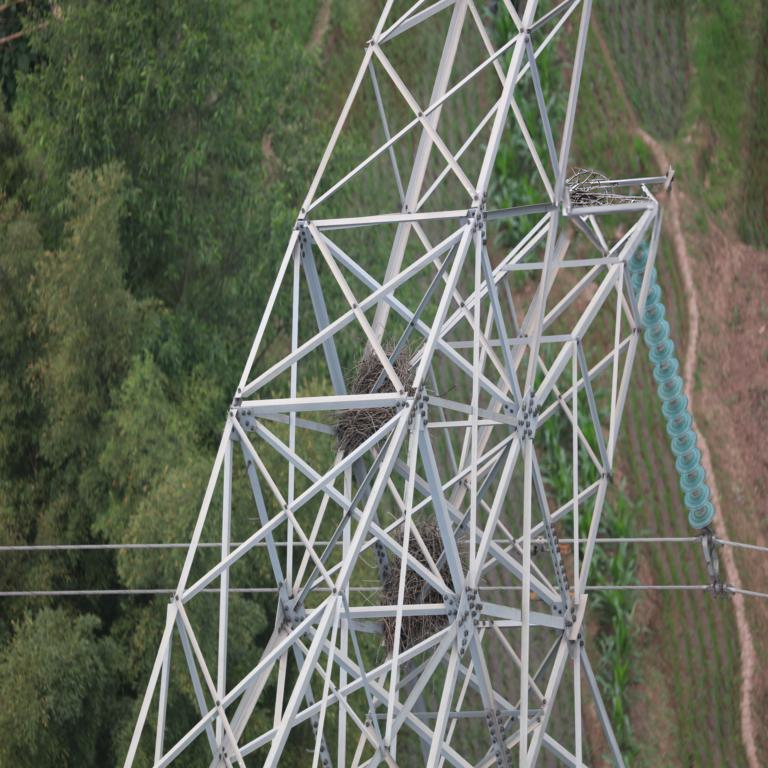nest: (378, 526, 471, 656), (335, 347, 415, 447), (561, 166, 616, 207)
